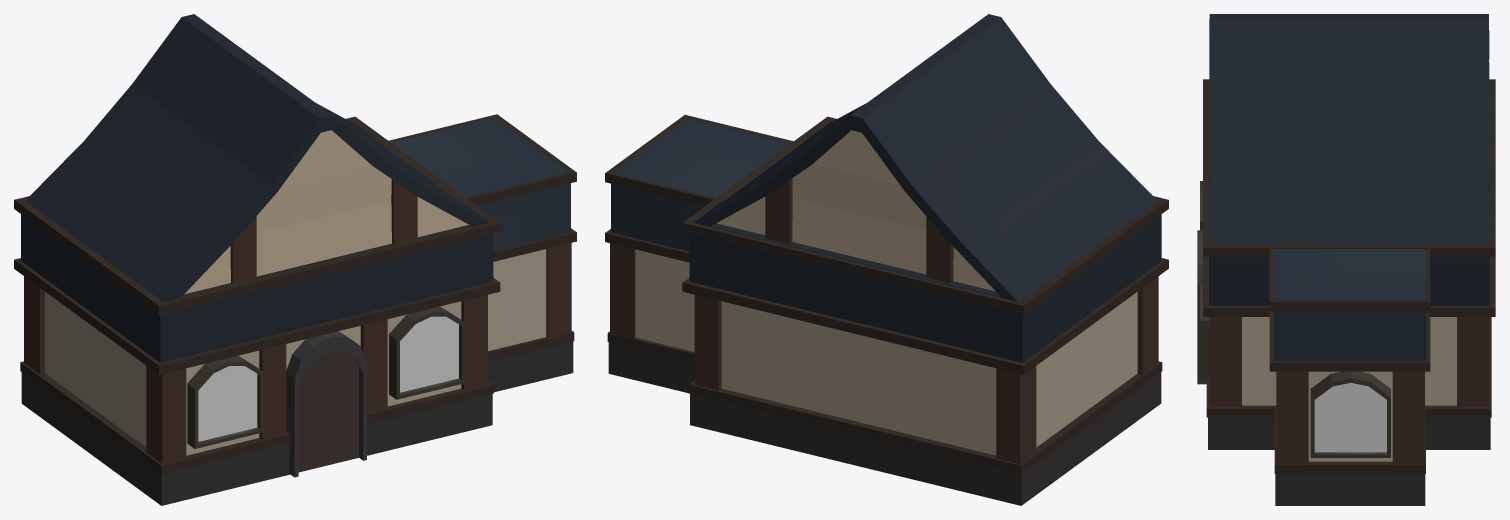
File: CasasAtriet02.fbx
3 renders of one model, left to right at view 1: azimuth 30°, elevation 25°; view 2: azimuth 150°, elevation 25°; view 3: azimuth 270°, elevation 25°, orthographic.
Parts seen in each view (by area): view 1: Casa02_LOD0; view 2: Casa02_LOD0; view 3: Casa02_LOD0.
Part boxes in pixels (x1=…): Casa02_LOD0: x1=14, y1=14, x2=576, y2=505; Casa02_LOD0: x1=605, y1=14, x2=1168, y2=505; Casa02_LOD0: x1=1197, y1=14, x2=1495, y2=505.
Size of what is drawn, in the model's own units: 904 by 652 by 502.
